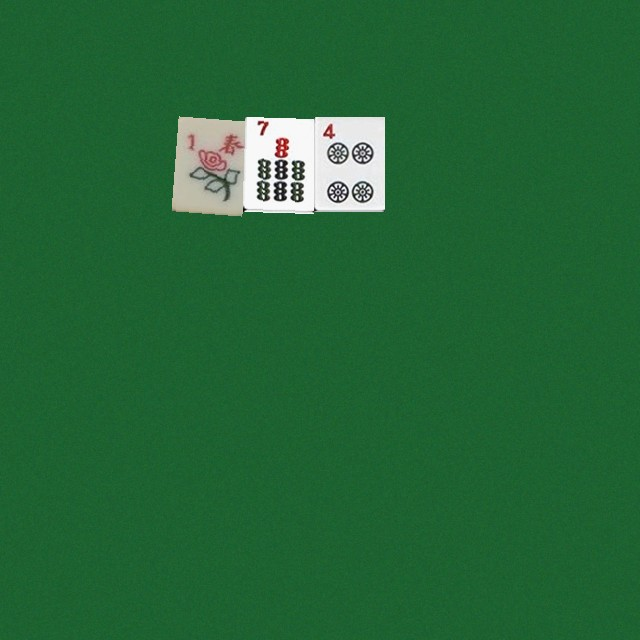tile: (171, 116, 242, 211), (242, 116, 313, 211), (313, 116, 384, 211)
